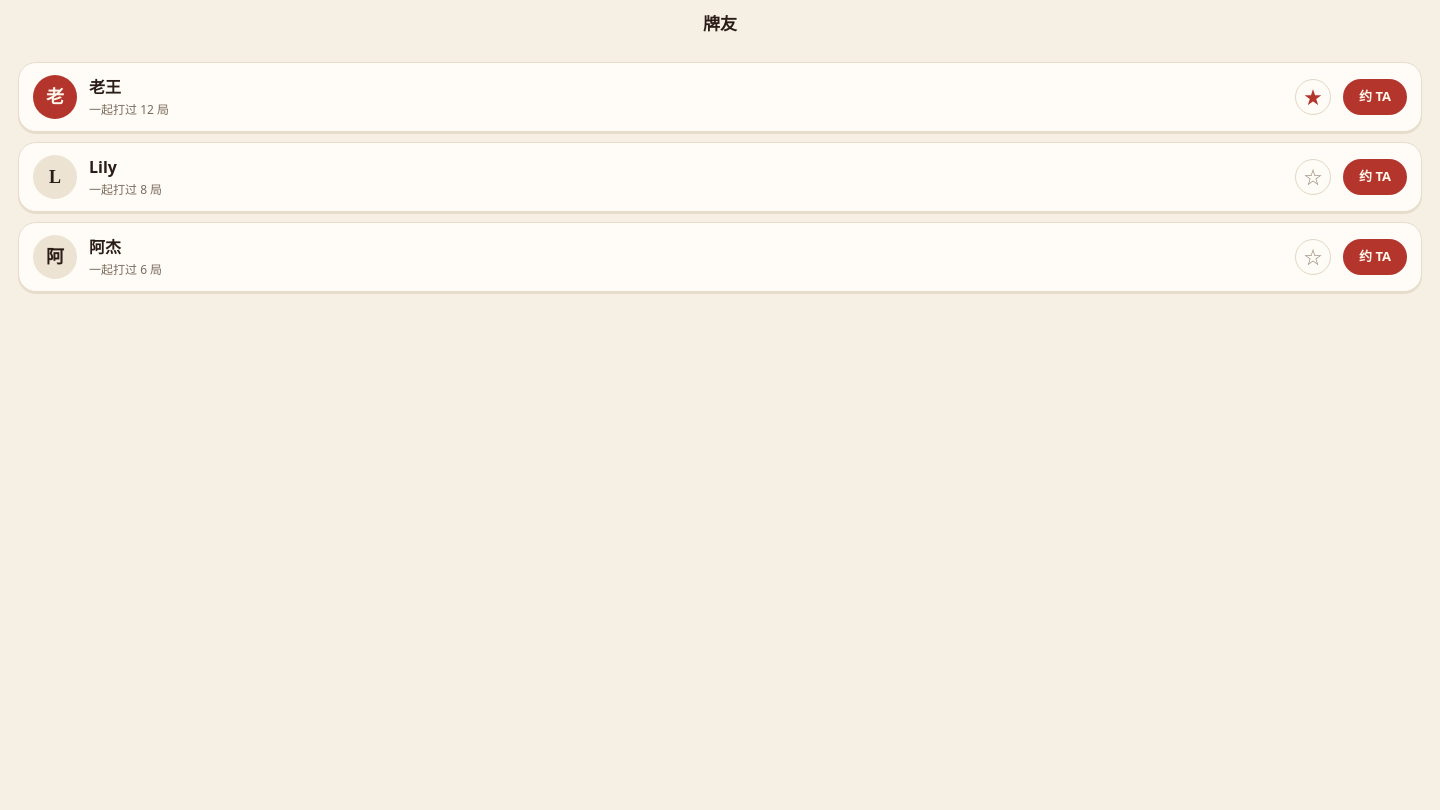
约 TA（F2） › 取消关掉面板
Click the button "约 TA" in the row of "Lily" at {"x": 1375, "y": 177}, box [1343,159,1407,195]
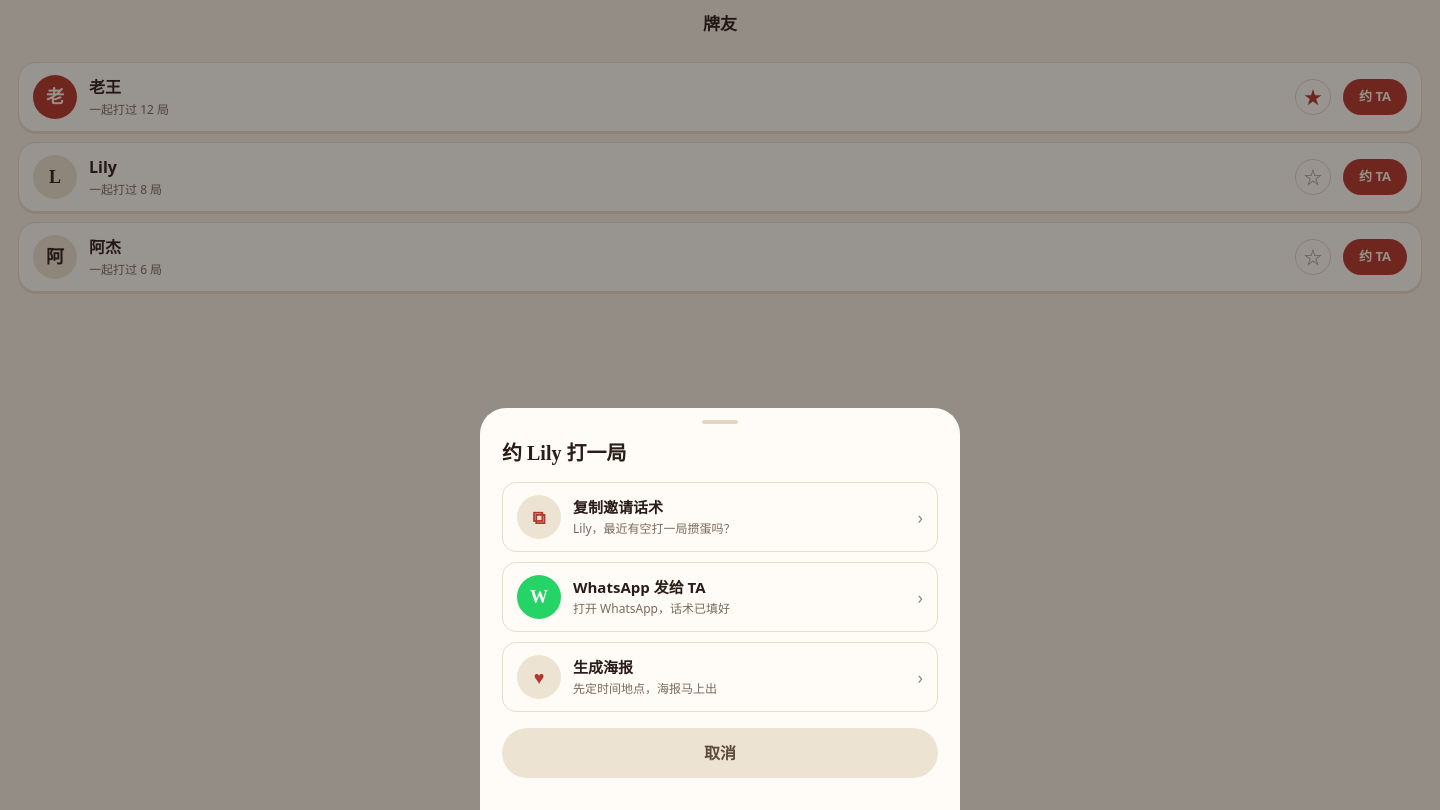
Check: the dialog with test id "invite-sheet" is shown, box [480,408,960,809]
Click the button with class "cancel" at {"x": 720, "y": 753}, box [502,728,938,778]
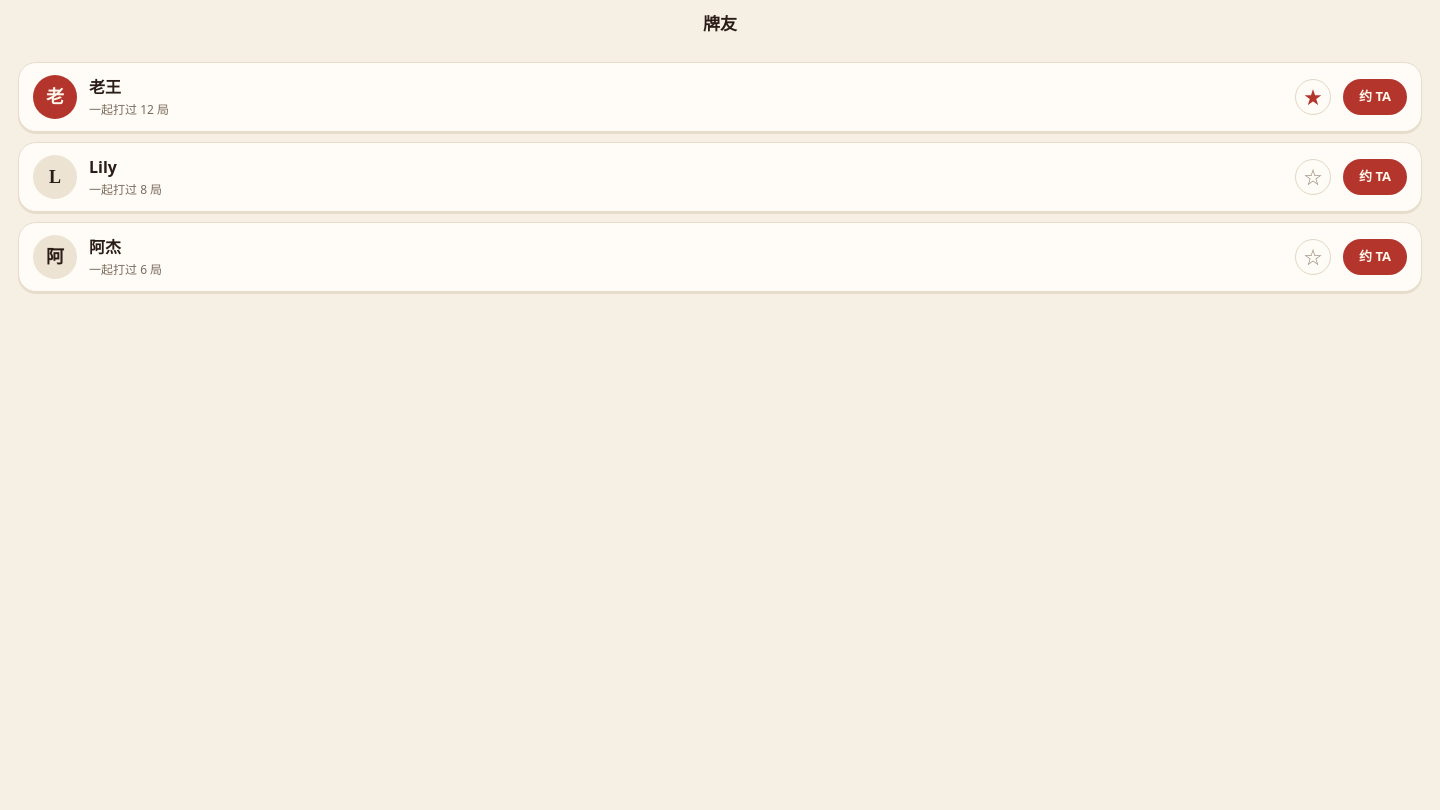
Check: the dialog with test id "invite-sheet" is gone
